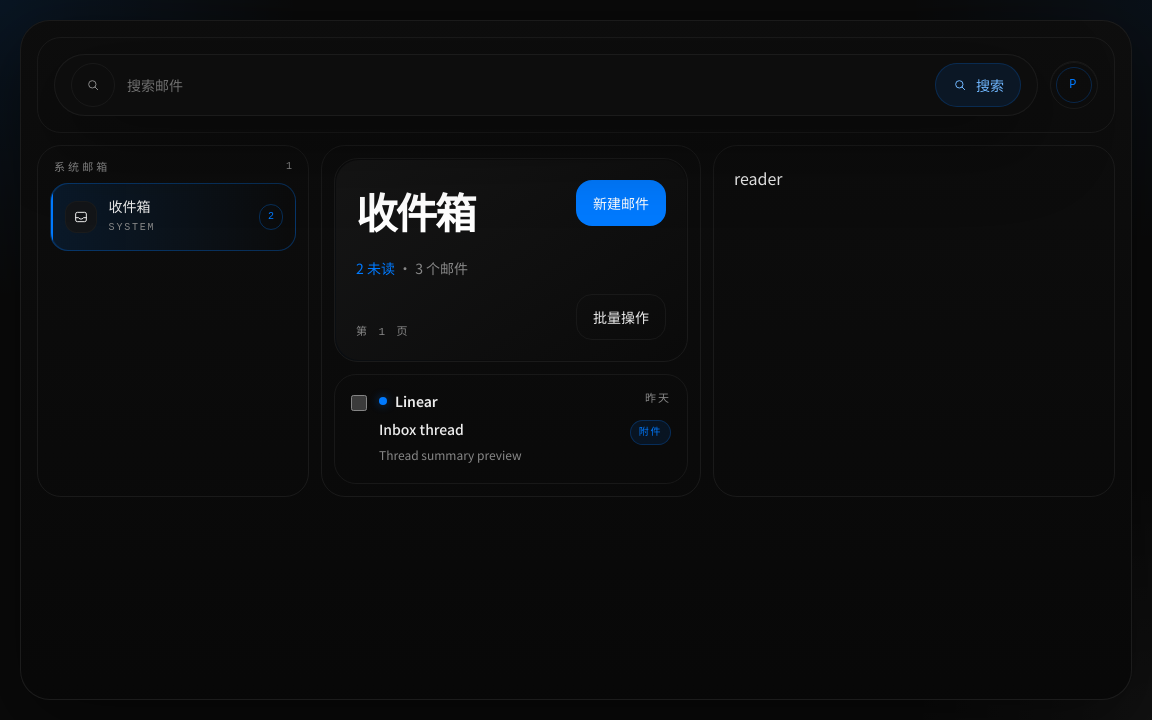
Test case: app-shell › renders shell selectors for mailbox views
This screenshot has width=1152, height=720.
Check: the element with test id "mail-layout" is shown, box [37,145,1115,497]
Check: the element with test id "mailbox-sidebar" is shown, box [37,145,309,497]
Step 1. Click the button with test id "account-chip-trigger" → (1074, 85), box [1050,61,1098,109]
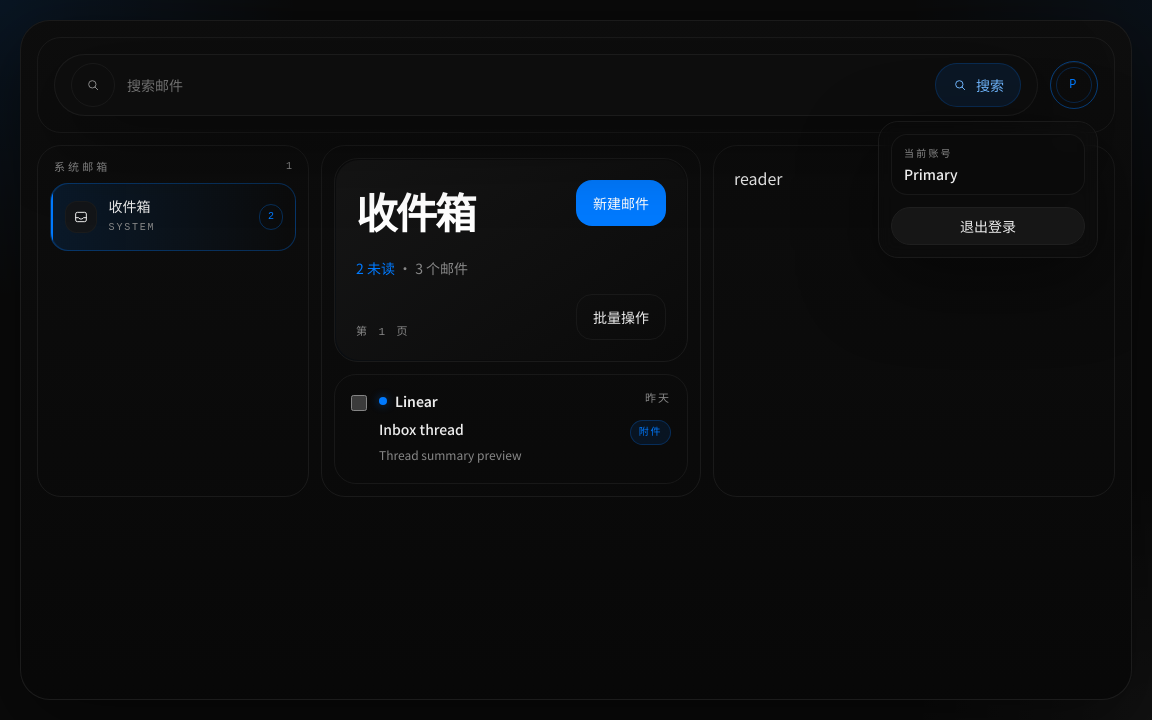
Check: the button with test id "account-chip-trigger" is expanded, box [1050,61,1098,109]
Check: the element with test id "account-chip-panel" is shown, box [878,121,1098,258]
Check: the text "Primary" is shown, box [904,164,958,184]
